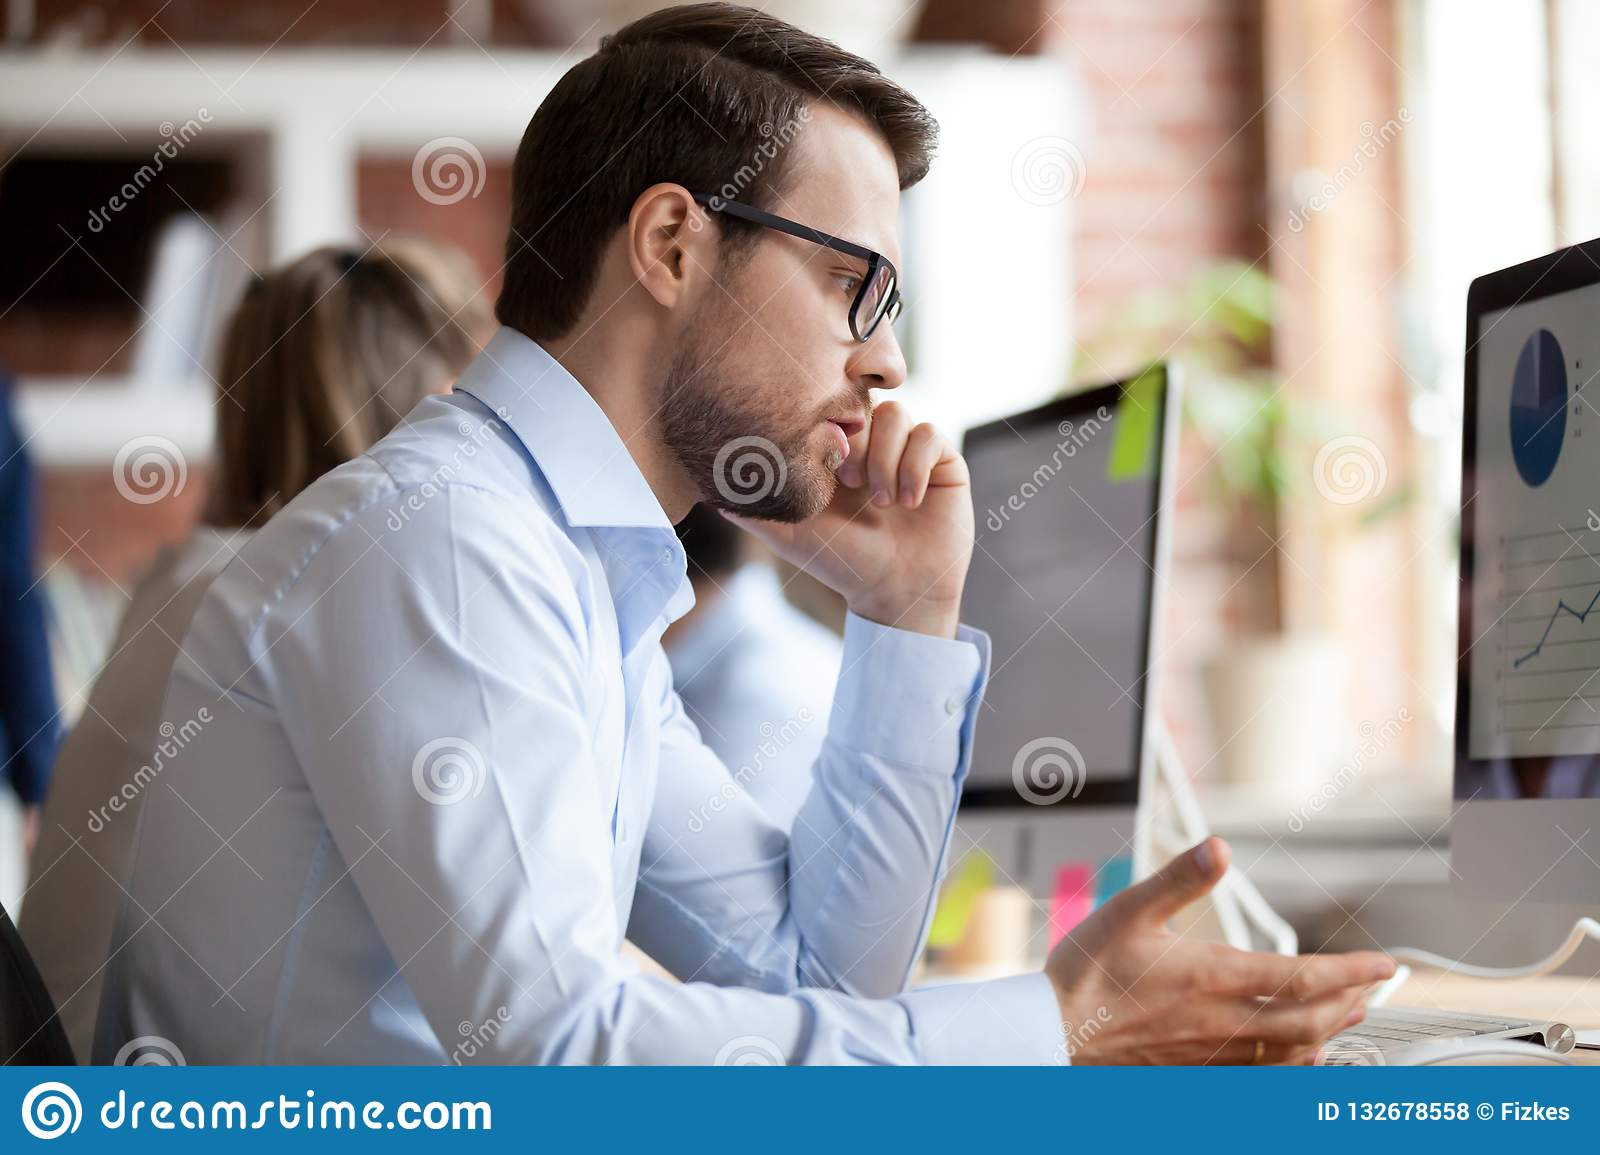talk: (729, 219, 974, 630)
